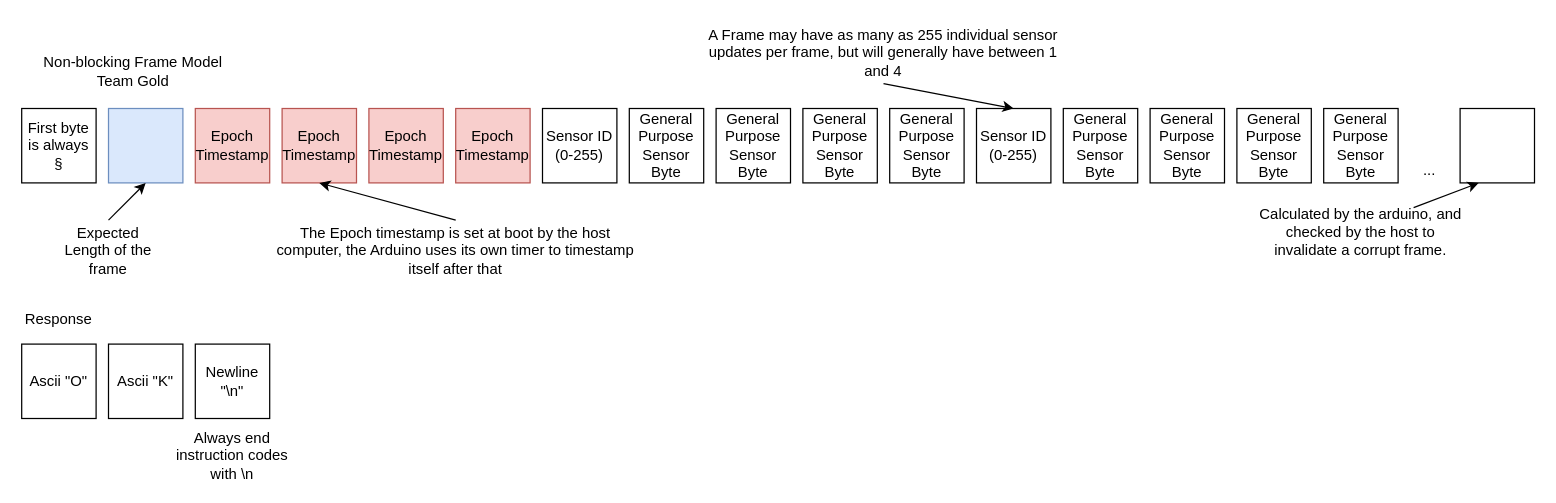
This 1556x503 diagram has some shape labels left out. The shapes that lost their labels are listed below. From the top down, each one's box as (x1, y1, x2, y2) in pixels, then its label:
(107, 107, 183, 183): Length of Frame
(1459, 107, 1534, 183): Checksum
